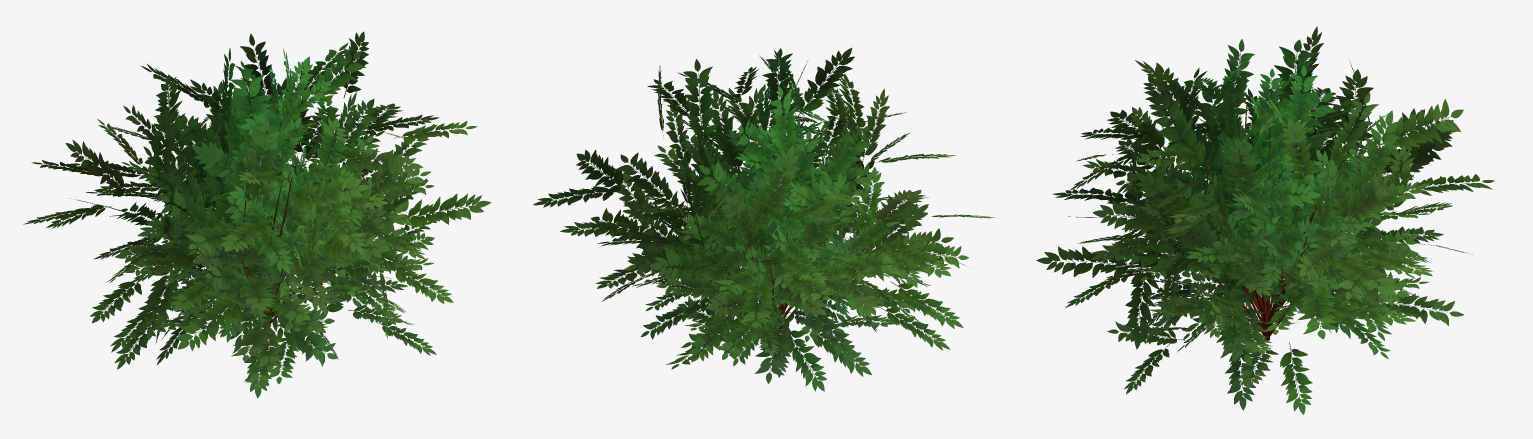
Rendered from yabu.glb.
3 renders of one model, left to right at view 1: azimuth 30°, elevation 25°; view 2: azimuth 150°, elevation 25°; view 3: azimuth 270°, elevation 25°, orthographic. The views are drawn at different scales.
Visible parts, largest first — view 1: v2_lod0, v1_lod0, v0_lod0; view 2: v1_lod0, v2_lod0, v0_lod0; view 3: v2_lod0, v1_lod0, v0_lod0.
Boxes of the visible parts, x1=… form: v2_lod0: x1=94, y1=31, x2=477, y2=398; v1_lod0: x1=31, y1=48, x2=491, y2=355; v0_lod0: x1=23, y1=78, x2=453, y2=373; v1_lod0: x1=597, y1=48, x2=950, y2=391; v2_lod0: x1=533, y1=59, x2=995, y2=377; v0_lod0: x1=625, y1=74, x2=968, y2=376; v2_lod0: x1=1052, y1=76, x2=1463, y2=388; v1_lod0: x1=1036, y1=39, x2=1494, y2=414; v0_lod0: x1=1065, y1=26, x2=1428, y2=410.
Size of what is drawn, in the model's own units: 3.33 by 2.6 by 3.07.
1 material, 1 textured.
